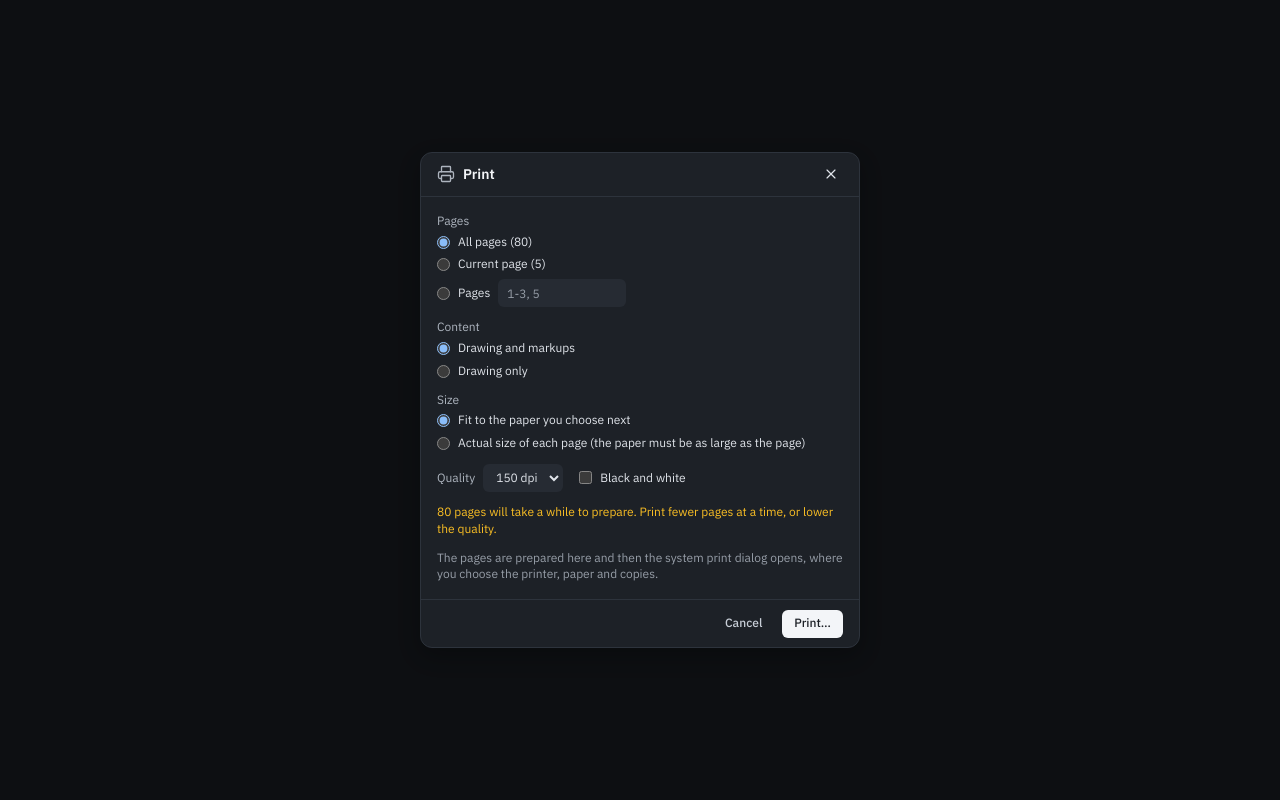
Test case: Diálogo Print (ADR-0115) › avisa de que un trabajo de muchas páginas tardará
Check: the text with test id "print-large" shows "80 pages will take a while", box [437,504,843,538]
Click the radio button with test id "print-scope-current" at x=444, y=265, box [437,258,450,271]
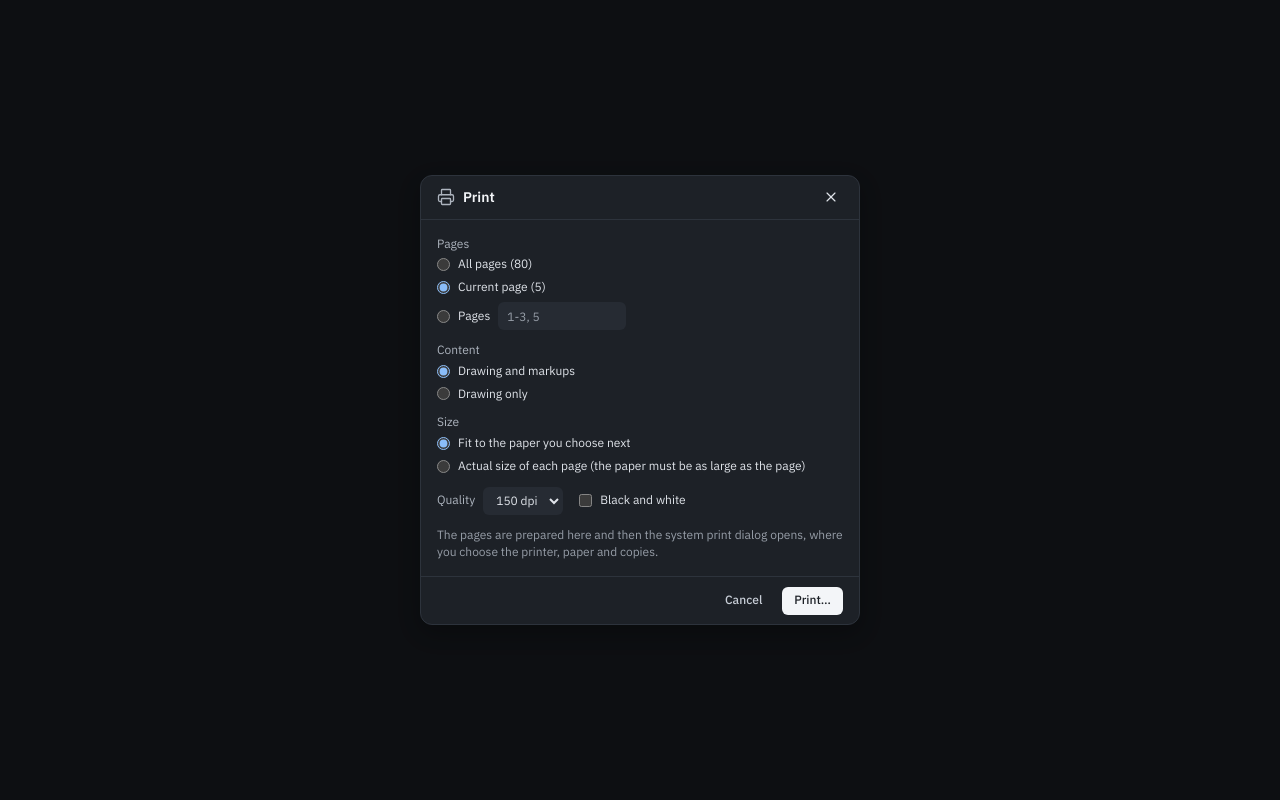
Check: the text with test id "print-large" is gone
